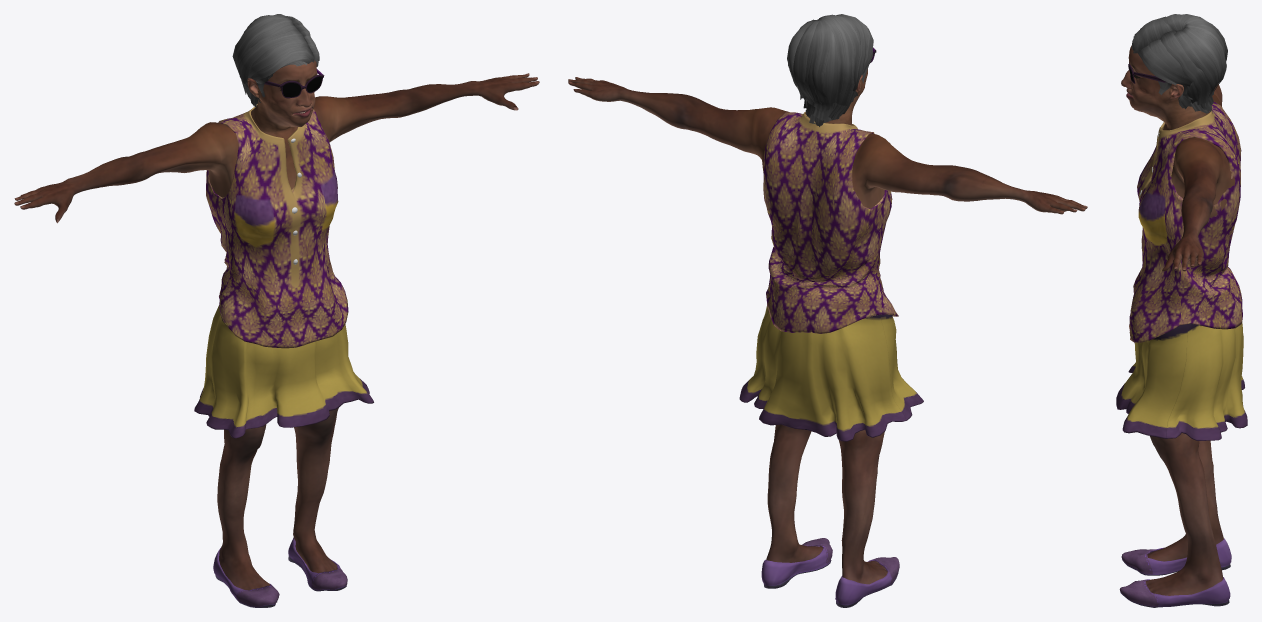
Rendered from DecrepitDaiseyModel.obj.
The picture shows the model from 3 angles, left to right: view 1: azimuth 30°, elevation 25°; view 2: azimuth 150°, elevation 25°; view 3: azimuth 270°, elevation 25°; orthographic projection.
Parts seen in each view (by area): view 1: Body, Tops, Bottoms, Hair, Shoes; view 2: Body, Tops, Bottoms, Hair, Shoes; view 3: Tops, Body, Bottoms, Hair, Shoes, Eyewear.
Boxes of the visible parts, x1,y1,x2,y2 form: Body: (14, 60, 539, 590); Tops: (206, 104, 348, 348); Bottoms: (194, 305, 373, 438); Hair: (232, 14, 319, 107); Shoes: (213, 537, 347, 607); Body: (568, 69, 1087, 584); Tops: (763, 112, 898, 333); Bottoms: (739, 305, 923, 441); Hair: (787, 14, 873, 126); Shoes: (761, 538, 899, 607); Tops: (1129, 102, 1242, 342); Body: (1121, 45, 1234, 595); Bottoms: (1116, 323, 1247, 440); Hair: (1132, 14, 1227, 113); Shoes: (1119, 538, 1231, 607); Eyewear: (1128, 58, 1166, 83).
Bounding box in the file's own units: 154 × 160 × 33.48.
Materials: 1 (1 with a texture image).
